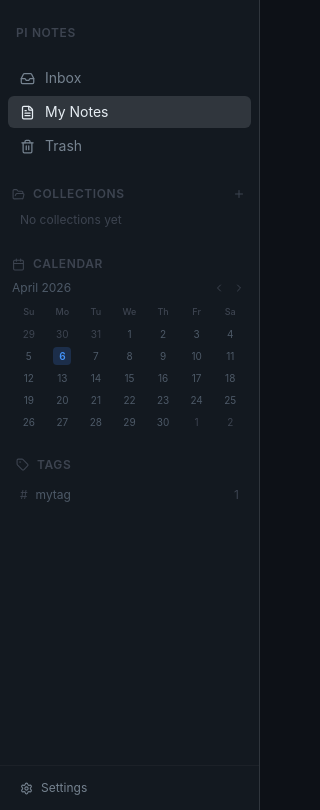
Test case: Sidebar › cancels tag rename on Escape key
Hover over the text "mytag" at (53, 494), box [36,487,71,502]
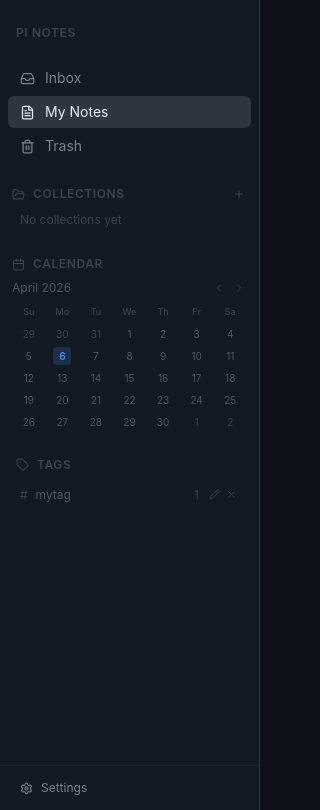
Click the button named "Rename tag mytag" at (214, 495), box [207,488,222,502]
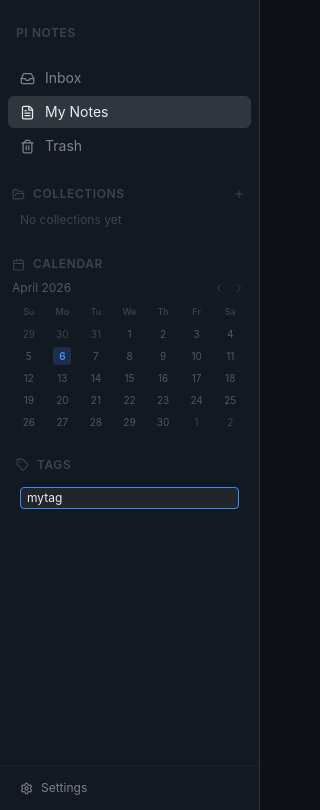
Press Escape in the field showing "mytag", box [20,487,239,509]
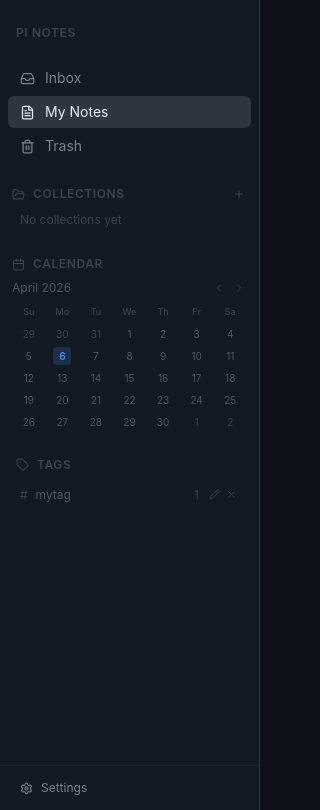
Expected: the text "mytag" is shown, [36,487,71,502]
